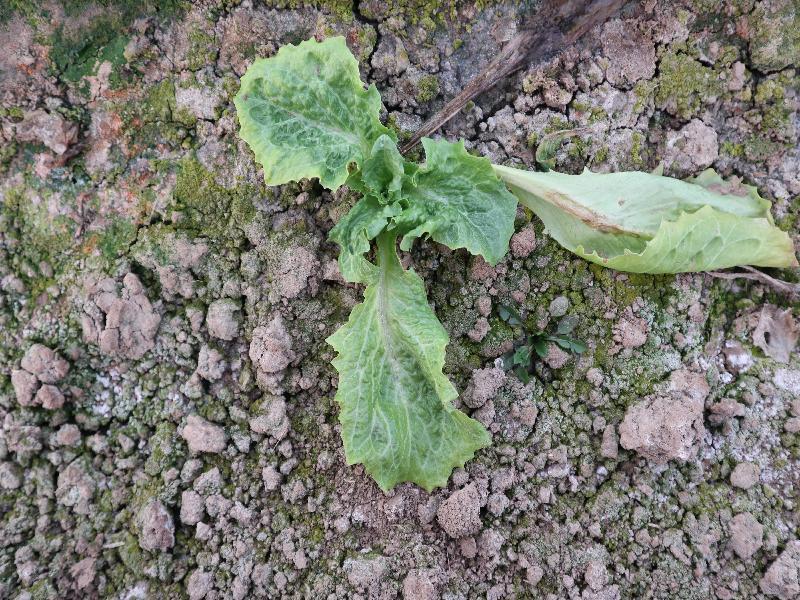lettuce: (231, 33, 798, 491)
